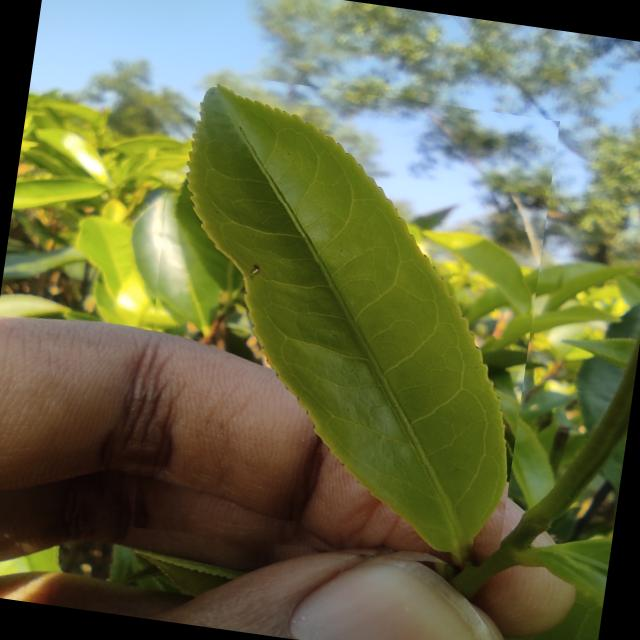Category C 4-7 days: (116, 68, 560, 578)
